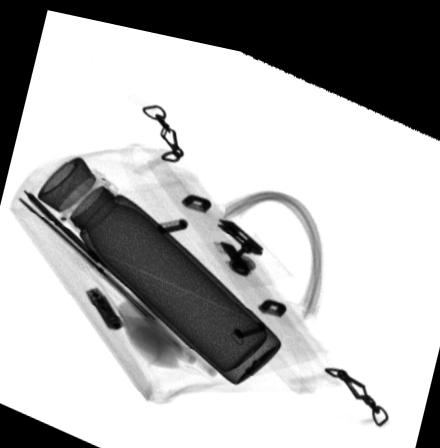Knife: (23, 189, 158, 309)
Scissors: (14, 194, 219, 368)
